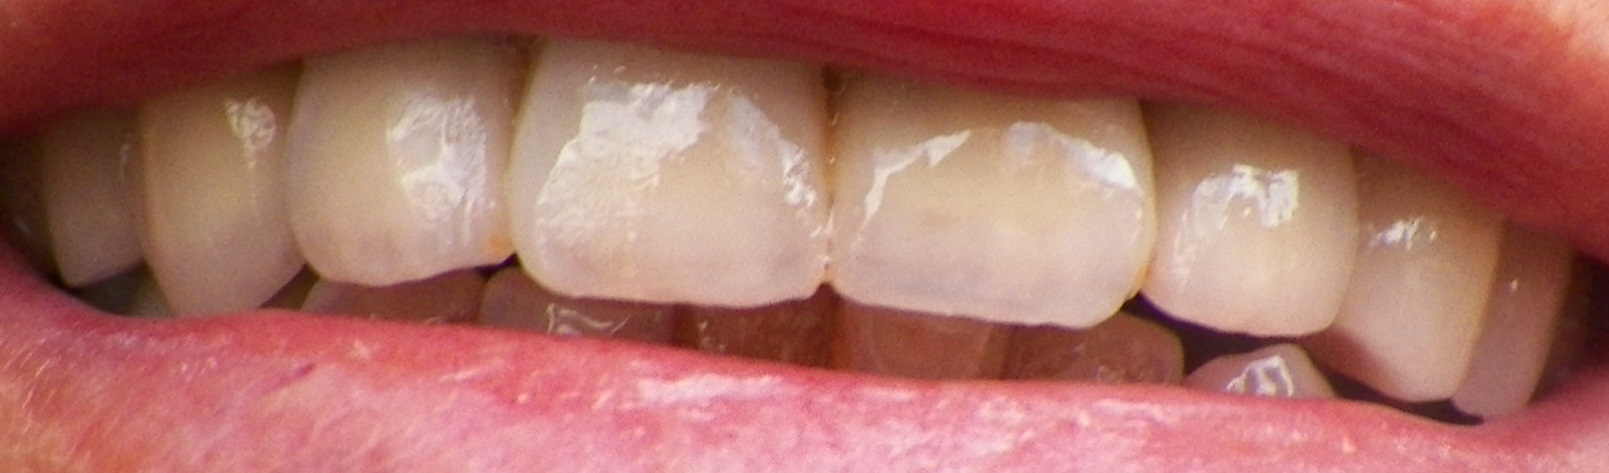boca: (58, 34, 1566, 429)
